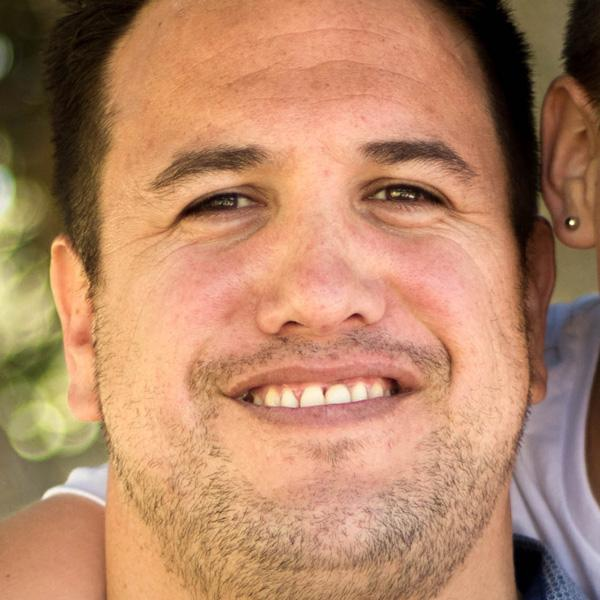Eyes: (161, 171, 275, 247), (350, 162, 456, 229)
